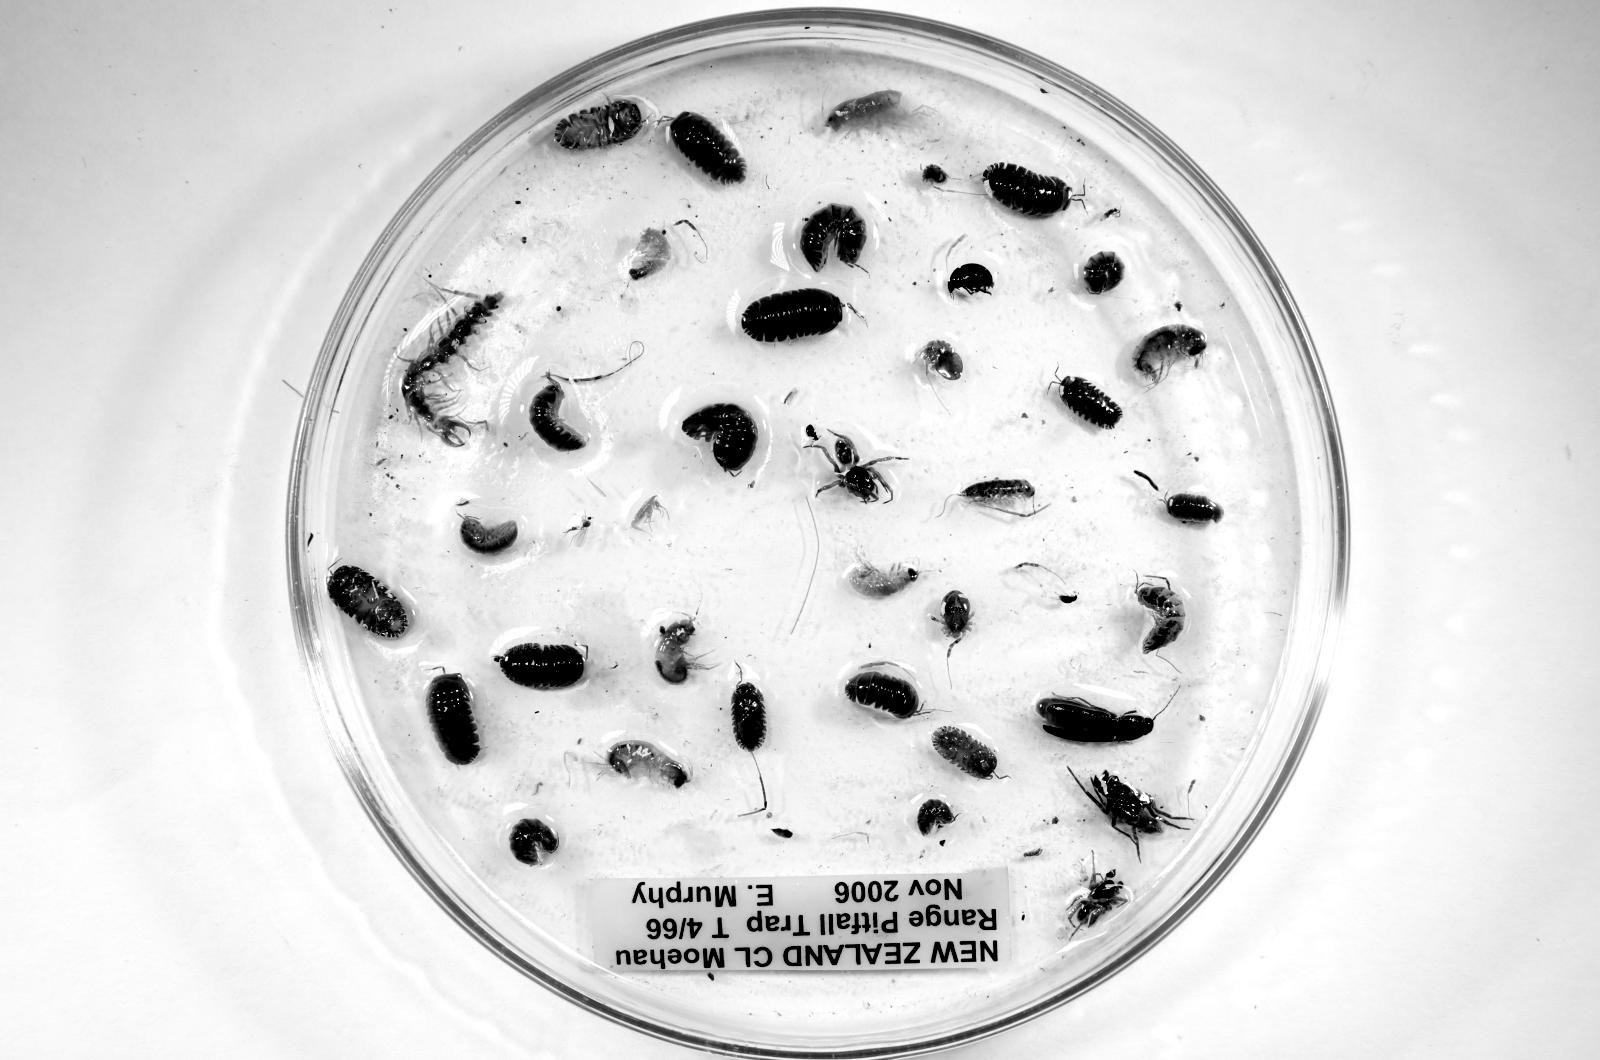amphipoda: (1133, 324, 1206, 387), (655, 615, 720, 684), (607, 739, 689, 788), (844, 547, 920, 597), (827, 90, 907, 131), (628, 228, 671, 280)
araneae: (1077, 771, 1193, 861), (808, 432, 907, 503), (1067, 864, 1129, 938)
chilopoda: (401, 293, 504, 447)
coleoptera: (1036, 693, 1154, 743), (947, 263, 995, 295), (805, 424, 820, 442), (1058, 594, 1077, 603)
collembola: (631, 496, 667, 532)
diptera: (564, 513, 591, 547)
isopoda: (328, 565, 408, 639), (669, 112, 746, 186), (741, 289, 843, 342), (682, 403, 757, 476), (427, 673, 481, 765), (983, 163, 1070, 218), (555, 98, 644, 150), (798, 205, 866, 271), (527, 376, 587, 451), (494, 642, 585, 690), (844, 666, 921, 718), (1135, 576, 1185, 654), (932, 725, 997, 778), (1060, 376, 1122, 428), (732, 683, 765, 751), (510, 819, 558, 865), (460, 516, 518, 554), (959, 477, 1035, 505), (1083, 251, 1125, 295), (1166, 493, 1223, 522), (916, 799, 954, 835)
opiliones: (932, 590, 972, 646), (919, 340, 963, 380), (921, 164, 947, 185)
